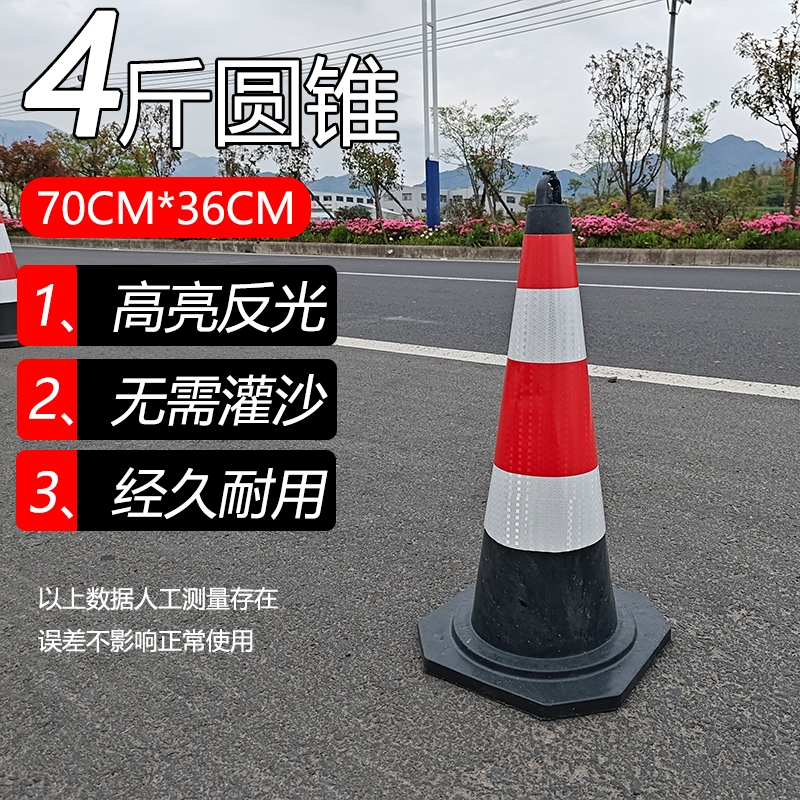traffic_cone: (415, 173, 679, 740)
